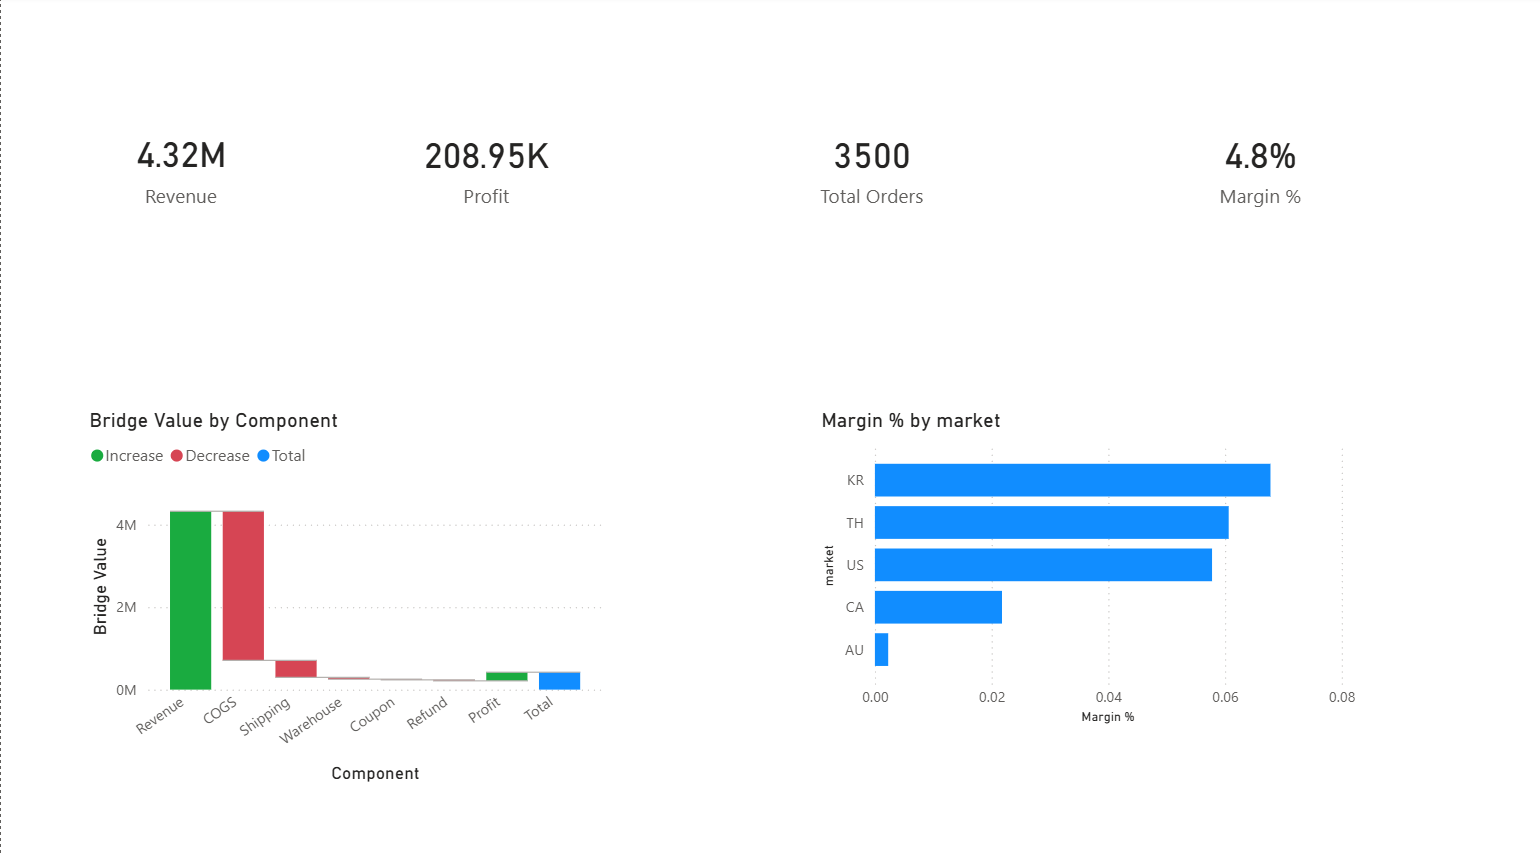

The page's visual inventory and layout, read from the dashboard file:
{"tool":"powerbi","page":{"name":"Executive","canvas":[1280,720],"ordinal":0},"visuals":[{"type":"waterfallChart","fields":{"Category":["ProfitBridge.Component"],"Y":["ProfitBridge.Bridge Value"]},"box":[68.9,342.3,435.4,315.9],"z":0},{"type":"card","fields":{"Values":["orders.Revenue"]},"box":[47.7,64.4,203.6,153.3],"z":1000},{"type":"card","fields":{"Values":["orders.Profit"]},"box":[301.8,64.8,202.5,153.9],"z":2000},{"type":"card","fields":{"Values":["orders.Margin %"]},"box":[943.8,64.8,202.5,153.9],"z":3000},{"type":"card","fields":{"Values":["orders.Total Orders"]},"box":[621.8,64.8,202.5,153.9],"z":4000},{"type":"clusteredBarChart","fields":{"Category":["orders.market"],"Y":["orders.Margin %"]},"box":[676.5,342.3,453.7,267.3],"z":5000}]}

Visuals, with their boxes in screenshot pixels (x1, y1, x2, y2), scaled from the page's 1280x720 canvas onto the 1540x856 screenshot:
waterfallChart - ProfitBridge.Component x ProfitBridge.Bridge Value: 83 407 607 783
card - orders.Revenue: 57 77 302 259
card - orders.Profit: 363 77 607 260
card - orders.Margin %: 1136 77 1379 260
card - orders.Total Orders: 748 77 992 260
clusteredBarChart - orders.market x orders.Margin %: 814 407 1360 725
